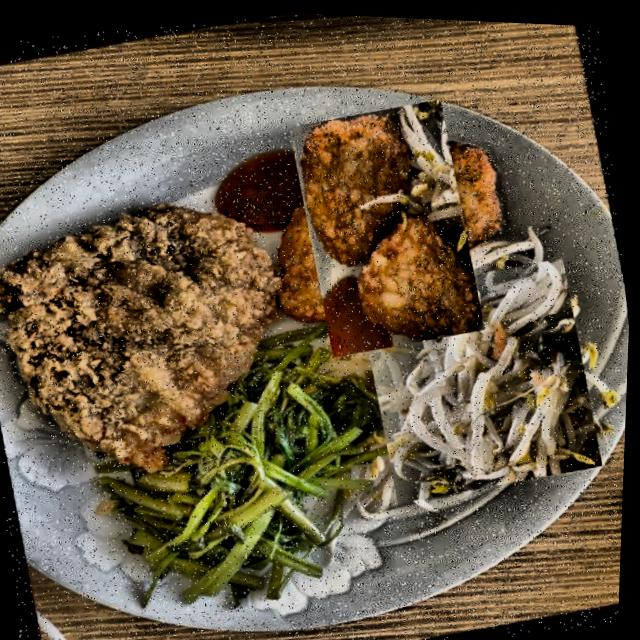Food: (0, 169, 321, 503), (83, 338, 422, 625), (350, 242, 614, 510), (266, 101, 511, 347)
